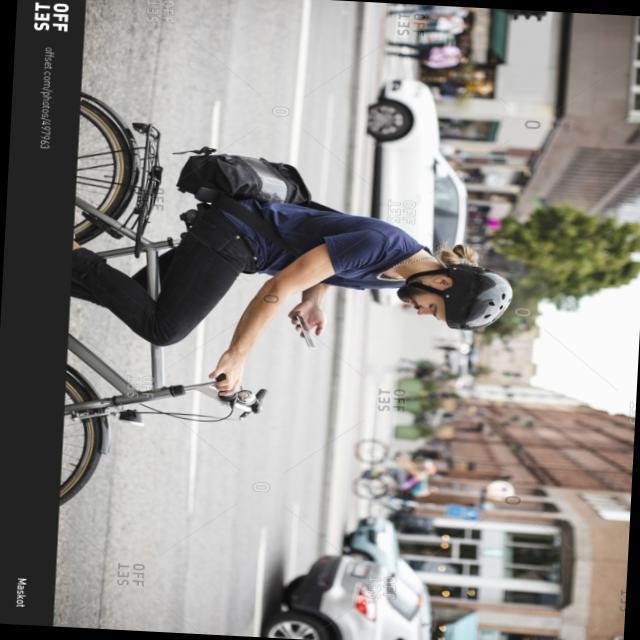USING_MOBILE: (284, 258, 514, 364)
